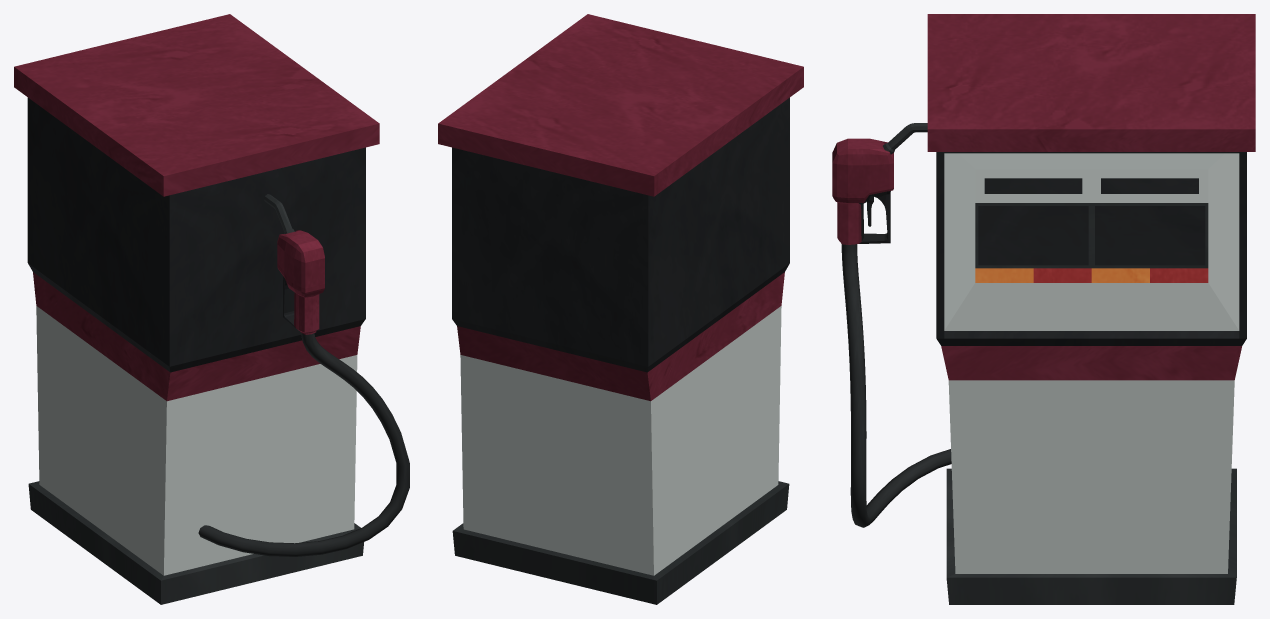
Rendered from melOmart-gaspump.fbx.
3 views of the same model, side by side, from view 1: azimuth 30°, elevation 25°; view 2: azimuth 150°, elevation 25°; view 3: azimuth 270°, elevation 25° (orthographic). The views are drawn at different scales.
Parts seen in each view (by area): view 1: gas_pump, gas-pump-handle; view 2: gas_pump; view 3: gas_pump, gas-pump-handle.
Boxes of the visible parts, left/top/right/bottom form: gas_pump: left=14, top=14, right=379, bottom=604; gas-pump-handle: left=198, top=194, right=409, bottom=556; gas_pump: left=438, top=14, right=803, bottom=604; gas_pump: left=927, top=14, right=1255, bottom=604; gas-pump-handle: left=832, top=123, right=951, bottom=527.
Bounding box in the file's own units: 116 × 145 × 74.8.
